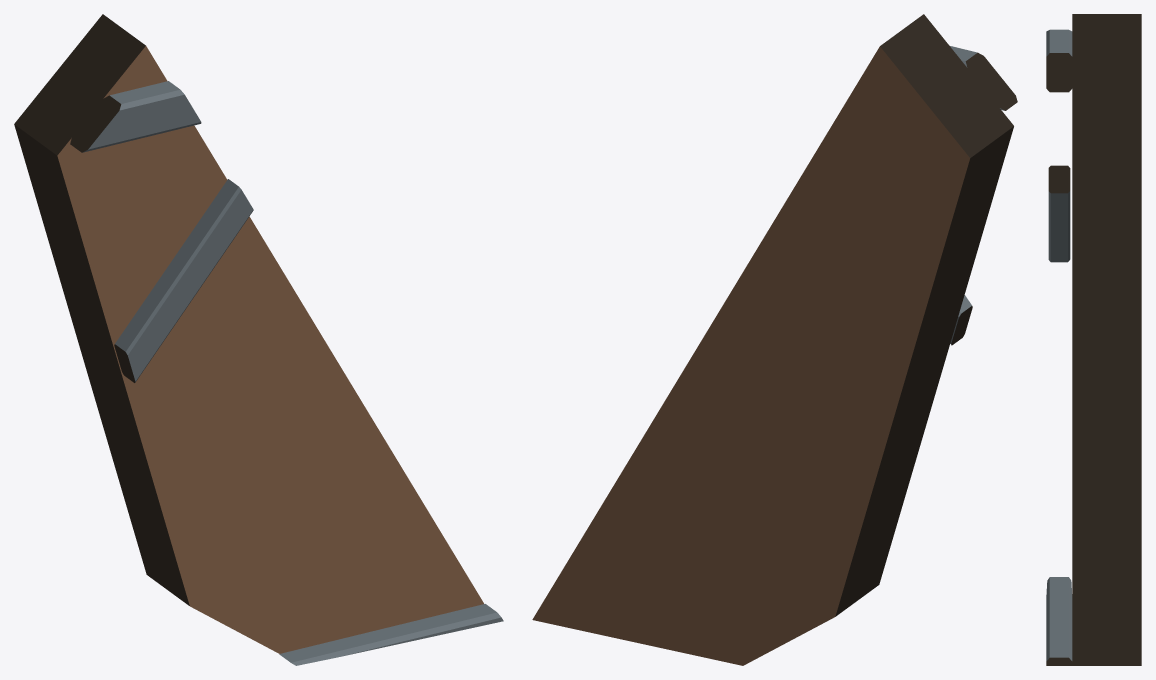
Rendered from SM_DoorShard_03_54.fbx.
3 renders of one model, left to right at view 1: azimuth 30°, elevation 25°; view 2: azimuth 150°, elevation 25°; view 3: azimuth 270°, elevation 25°, orthographic. The views are drawn at different scales.
Parts seen in each view (by area): view 1: SM_DoorShard_03_54; view 2: SM_DoorShard_03_54; view 3: SM_DoorShard_03_54.
Part boxes in pixels (x1=…): SM_DoorShard_03_54: x1=14, y1=14, x2=503, y2=665; SM_DoorShard_03_54: x1=532, y1=14, x2=1017, y2=665; SM_DoorShard_03_54: x1=1046, y1=14, x2=1141, y2=665.
Size of the model in its own units: 91.94 by 22 by 132.
